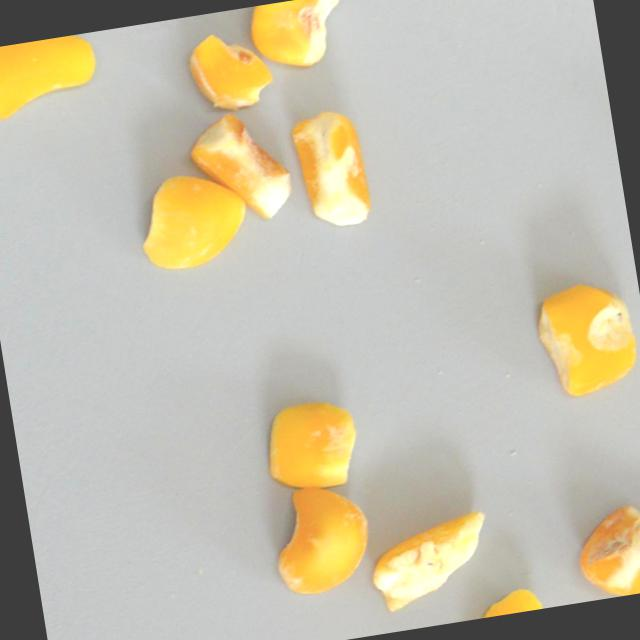dañado: (183, 99, 300, 233), (261, 478, 377, 598), (183, 26, 278, 112), (243, 0, 351, 72), (569, 502, 640, 602)
estandar: (286, 104, 377, 233), (0, 32, 103, 123)
pelicula: (129, 163, 258, 274), (253, 389, 372, 496), (456, 583, 548, 622)
punto_negro: (525, 272, 640, 403), (361, 517, 505, 601)
